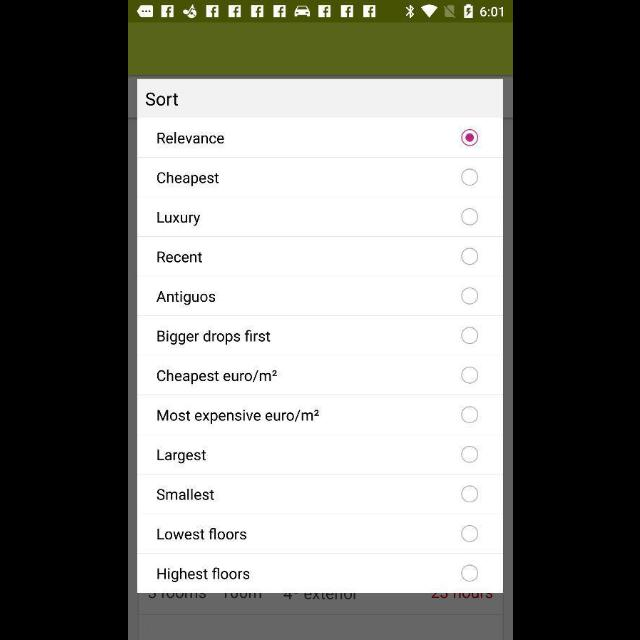checkbox: (460, 169, 478, 185), (460, 288, 478, 304), (460, 367, 478, 383), (460, 406, 478, 422), (461, 524, 477, 542), (461, 564, 477, 582), (459, 130, 476, 146), (461, 208, 477, 225), (461, 249, 477, 265), (461, 327, 477, 343), (461, 446, 477, 462), (461, 486, 477, 502)
panel: (136, 81, 502, 594)
text: (157, 410, 319, 424), (157, 370, 277, 384), (156, 330, 270, 344), (157, 567, 249, 581), (157, 528, 246, 540), (157, 172, 219, 186), (156, 132, 224, 144), (157, 291, 215, 305), (157, 489, 215, 501), (157, 450, 206, 464), (156, 212, 200, 225), (156, 251, 202, 263), (146, 94, 178, 106)
uppertaskbar: (128, 1, 512, 23)
